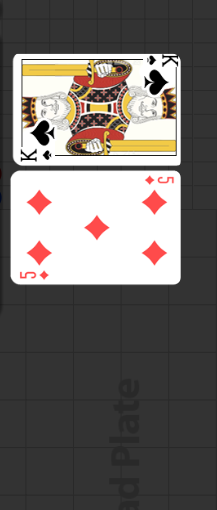5D: (18, 269, 51, 281)
KS: (144, 53, 180, 68)
